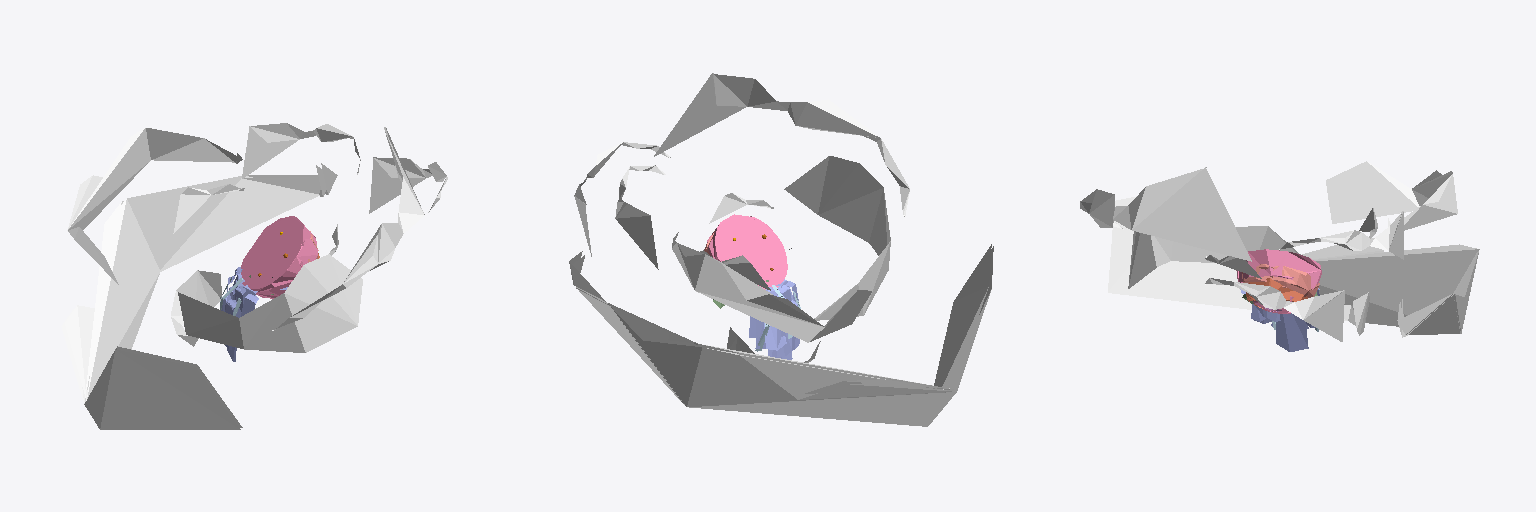
The model's file is CLOUD3000.obj.
3 renders of one model, left to right at view 1: azimuth 30°, elevation 25°; view 2: azimuth 150°, elevation 25°; view 3: azimuth 270°, elevation 25°, orthographic.
Parts seen in each view (by area): view 1: RCsencefull; view 2: RCsencefull; view 3: RCsencefull.
Part boxes in pixels (left/top/right/bottom): RCsencefull: left=61, top=123, right=447, bottom=429; RCsencefull: left=569, top=73, right=993, bottom=426; RCsencefull: left=1080, top=161, right=1479, bottom=351.
Size of the model in its own units: 22.45 by 15.76 by 21.29.